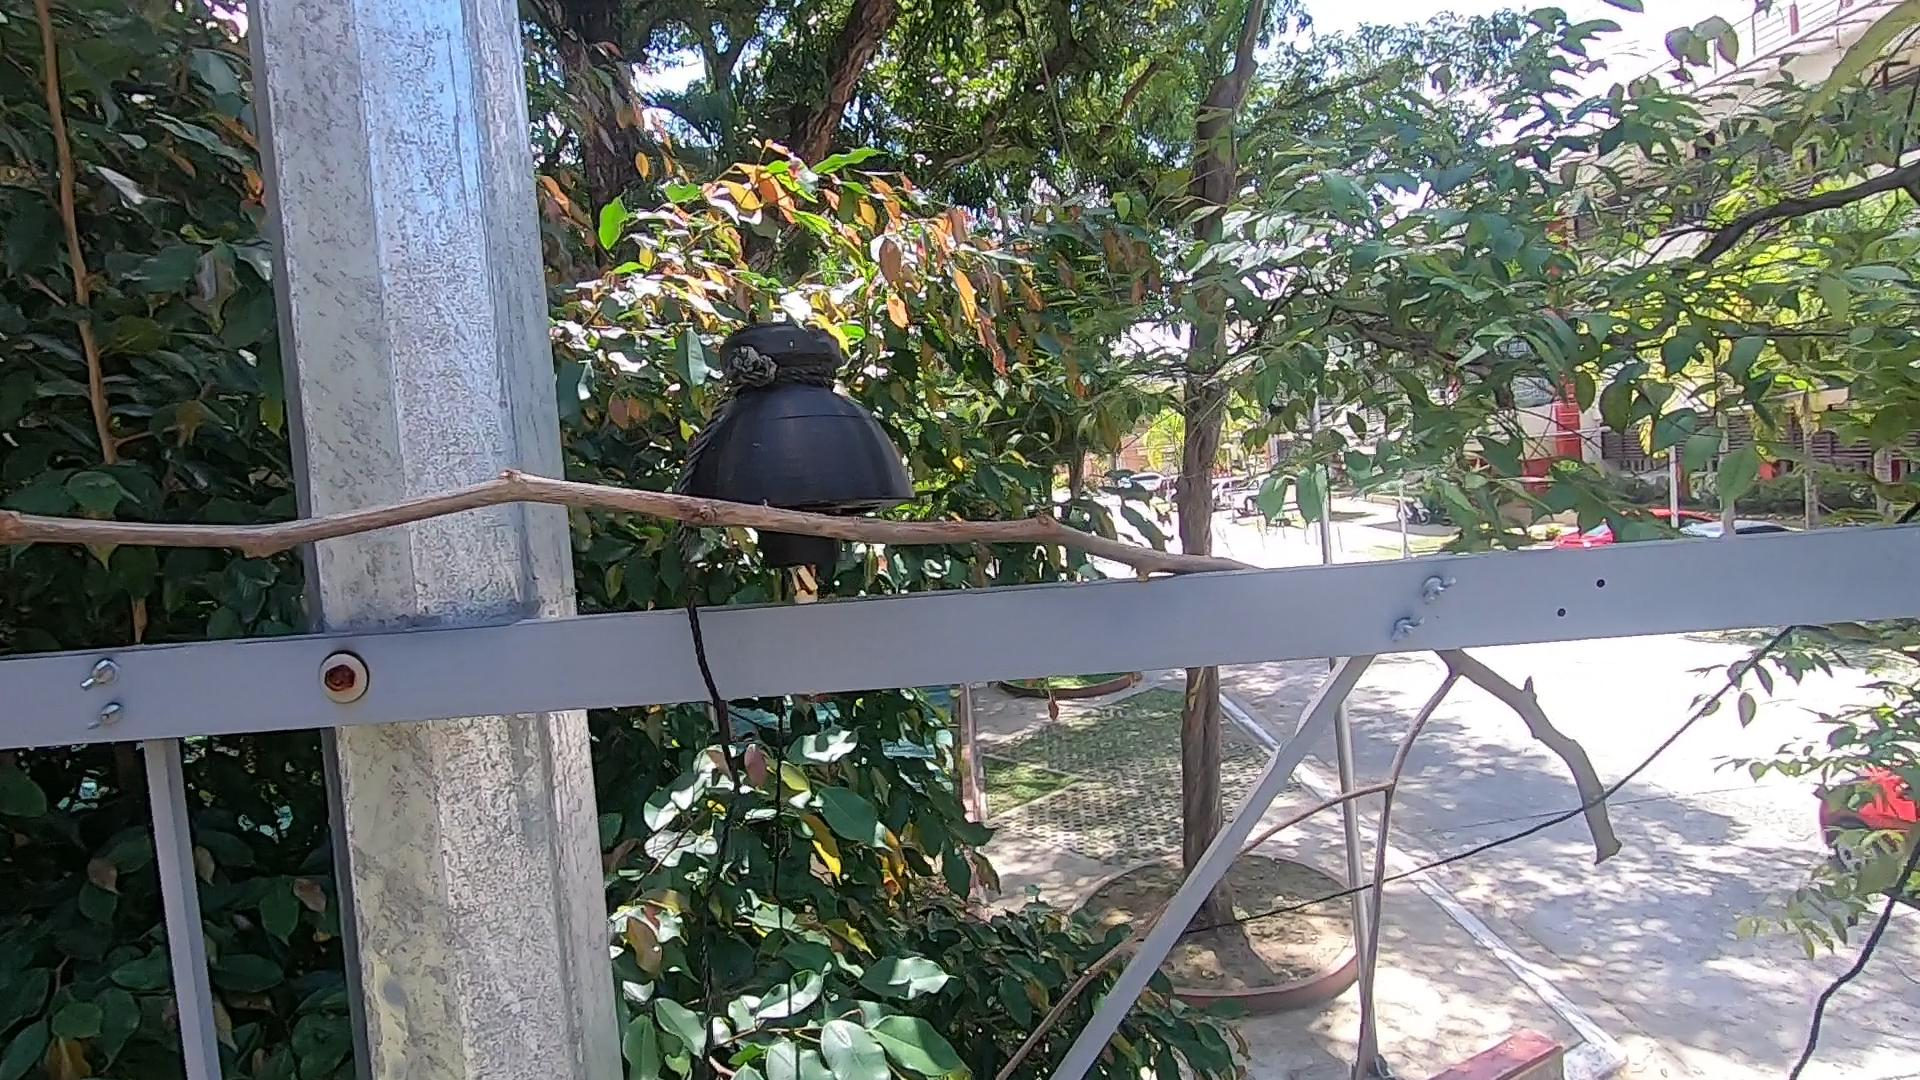tree branch: (986, 638, 1651, 1073), (1, 469, 1313, 645)
